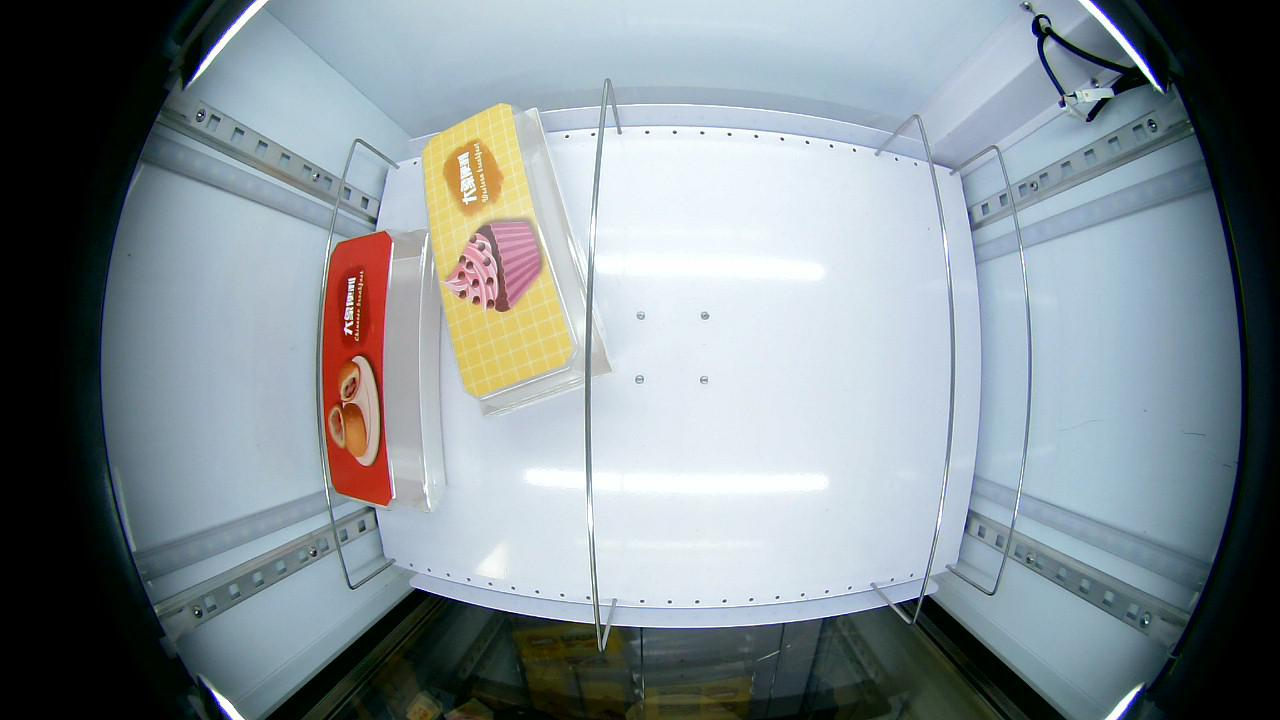goods: (438, 215, 544, 315), (326, 353, 388, 466)
